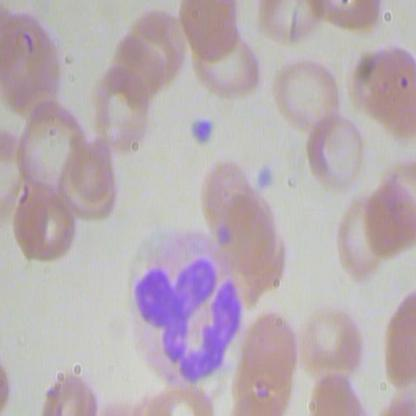Platelets: (189, 114, 215, 148), (254, 157, 279, 191)
RBC: (1, 10, 70, 127), (329, 192, 396, 289), (85, 65, 155, 152), (8, 179, 78, 265), (273, 50, 343, 135), (301, 105, 371, 190), (298, 304, 369, 385), (190, 37, 262, 99), (173, 1, 245, 62)
WBC: (111, 227, 251, 393)
